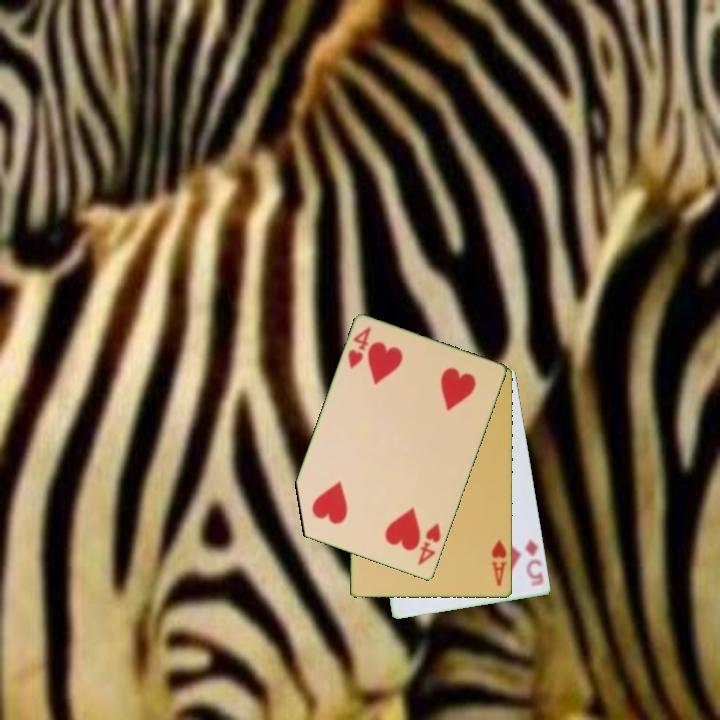4h: (414, 520, 444, 569), (344, 323, 374, 372)
5d: (522, 536, 547, 590)
Ah: (488, 537, 510, 589)
